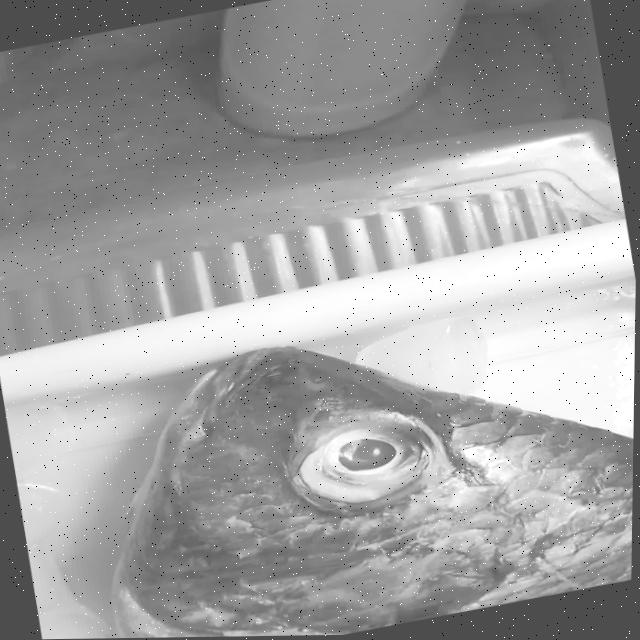Fresh: (271, 402, 448, 525)
